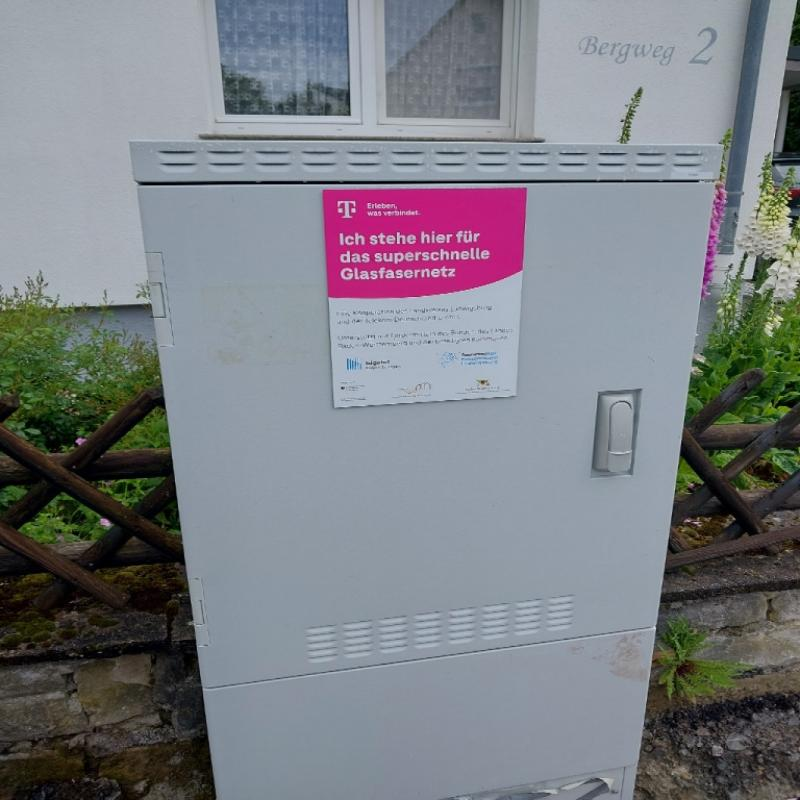NT-Gehause: (129, 143, 719, 798)
Steaker: (329, 186, 531, 407)
